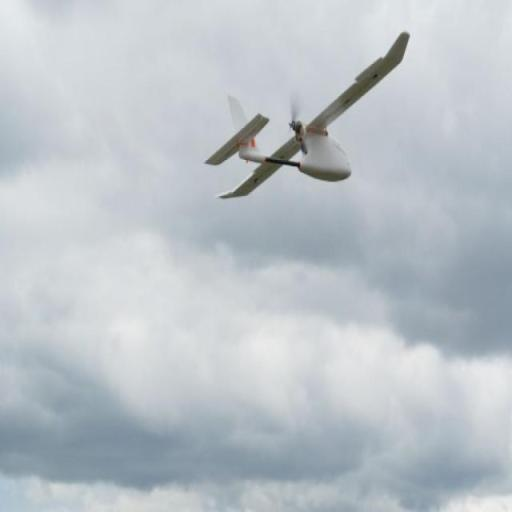uav: (206, 30, 411, 196)
